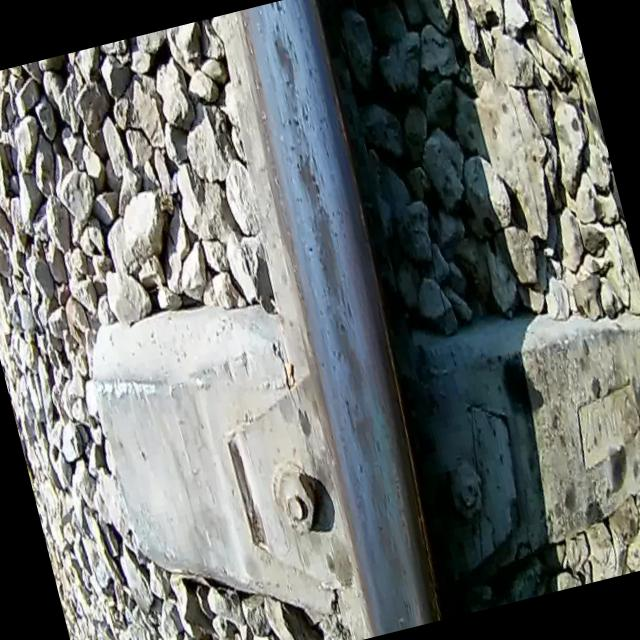Squats: (356, 462, 416, 598), (302, 204, 354, 314), (322, 304, 376, 408), (264, 26, 306, 104), (344, 408, 388, 471), (290, 145, 325, 212)
